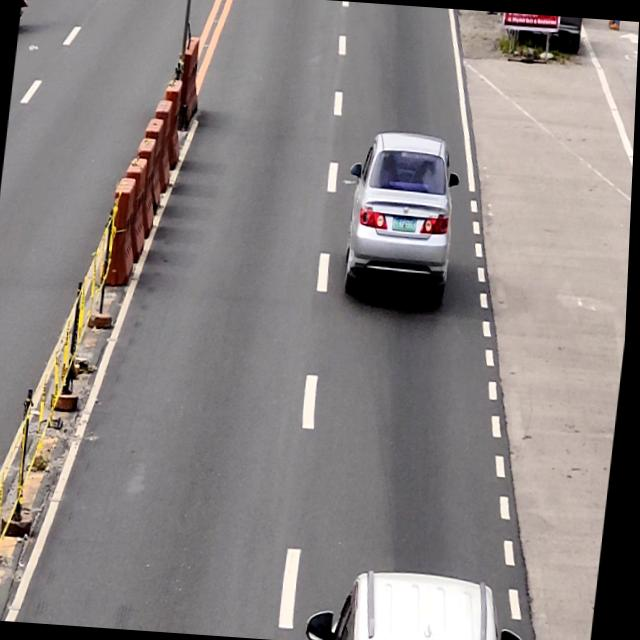Car: (338, 127, 466, 312), (309, 565, 539, 640)
License-Plate: (393, 216, 418, 232)
